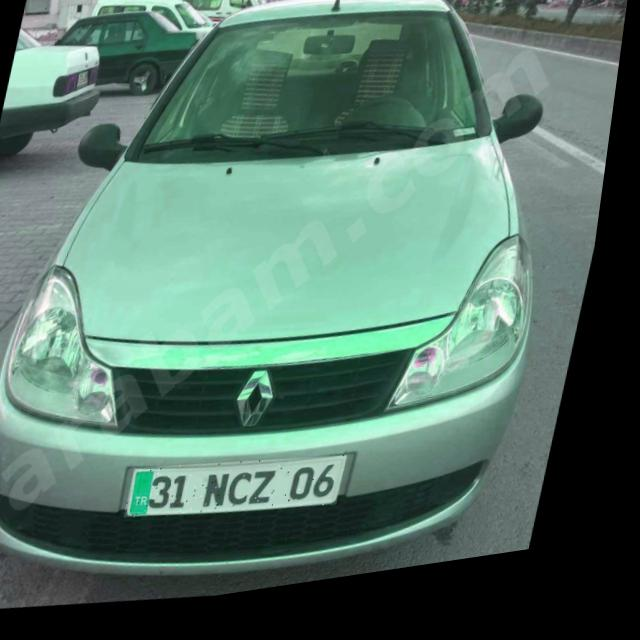license_plate: (137, 448, 363, 542)
